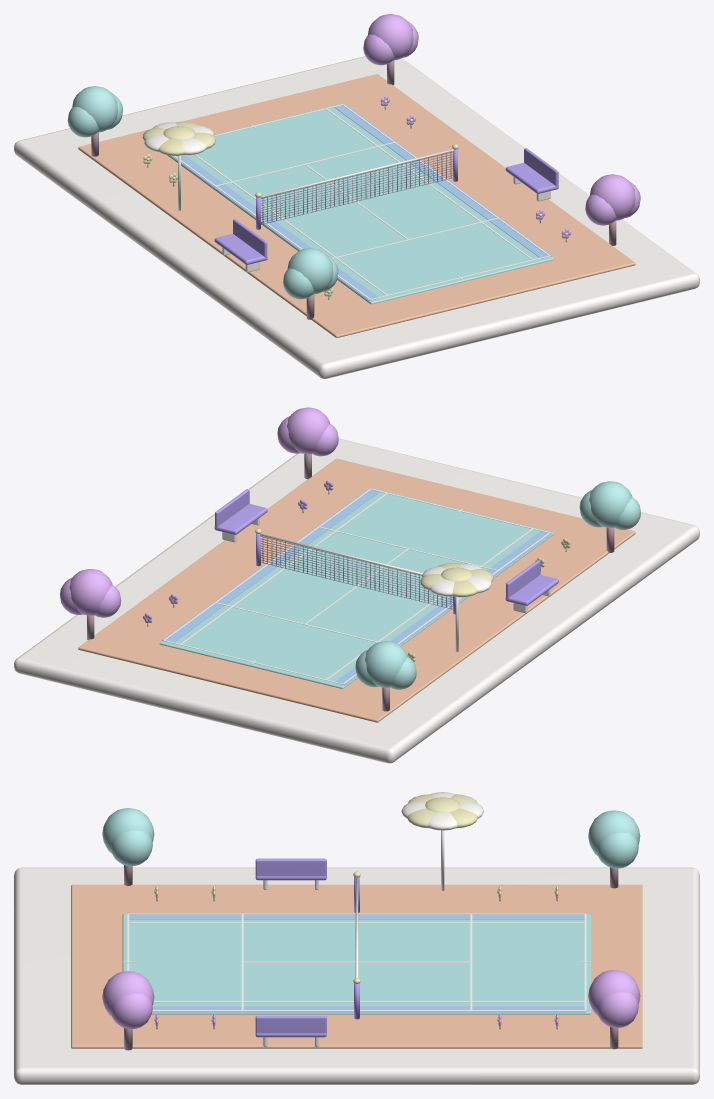
File: tennis-world.glb
3 views of the same model, one above another, from view 1: azimuth 30°, elevation 25°; view 2: azimuth 150°, elevation 25°; view 3: azimuth 270°, elevation 25° (orthographic). The views are drawn at different scales.
Visible parts, largest first — view 1: TennisWorld_Export_white, TennisWorld_Export_mint, TennisWorld_Export_peach, TennisWorld_Export_orchid, TennisWorld_Export_sky, TennisWorld_Export_net, TennisWorld_Export_CarPaint, TennisWorld_Export_butter, TennisWorld_Export_trunk; view 2: TennisWorld_Export_white, TennisWorld_Export_mint, TennisWorld_Export_peach, TennisWorld_Export_orchid, TennisWorld_Export_sky, TennisWorld_Export_net, TennisWorld_Export_CarPaint, TennisWorld_Export_butter, TennisWorld_Export_trunk; view 3: TennisWorld_Export_white, TennisWorld_Export_mint, TennisWorld_Export_peach, TennisWorld_Export_sky, TennisWorld_Export_orchid, TennisWorld_Export_CarPaint, TennisWorld_Export_butter, TennisWorld_Export_trunk.
Boxes of the visible parts, x1,y1,x2,y2 form: TennisWorld_Export_white: (14,56,699,378); TennisWorld_Export_mint: (67,86,566,304); TennisWorld_Export_peach: (78,74,635,337); TennisWorld_Export_orchid: (363,14,640,238); TennisWorld_Export_sky: (170,104,551,300); TennisWorld_Export_net: (261,152,453,224); TennisWorld_Export_CarPaint: (214,148,558,264); TennisWorld_Export_butter: (142,100,568,296); TennisWorld_Export_trunk: (91,60,616,319); TennisWorld_Export_white: (14,438,699,763); TennisWorld_Export_mint: (147,481,640,689); TennisWorld_Export_peach: (78,458,635,722); TennisWorld_Export_orchid: (59,407,338,622); TennisWorld_Export_sky: (162,489,551,685); TennisWorld_Export_net: (260,536,452,609); TennisWorld_Export_CarPaint: (214,489,558,614); TennisWorld_Export_butter: (146,485,570,661); TennisWorld_Export_trunk: (87,454,614,711); TennisWorld_Export_white: (14,792,699,1084); TennisWorld_Export_mint: (102,808,640,1029); TennisWorld_Export_peach: (71,884,642,1048); TennisWorld_Export_sky: (128,913,585,1012); TennisWorld_Export_orchid: (102,970,640,1029); TennisWorld_Export_CarPaint: (255,858,359,1037); TennisWorld_Export_butter: (154,794,558,1021); TennisWorld_Export_trunk: (124,865,618,1050).
Size of the model in its own units: 17 by 4.19 by 24.
